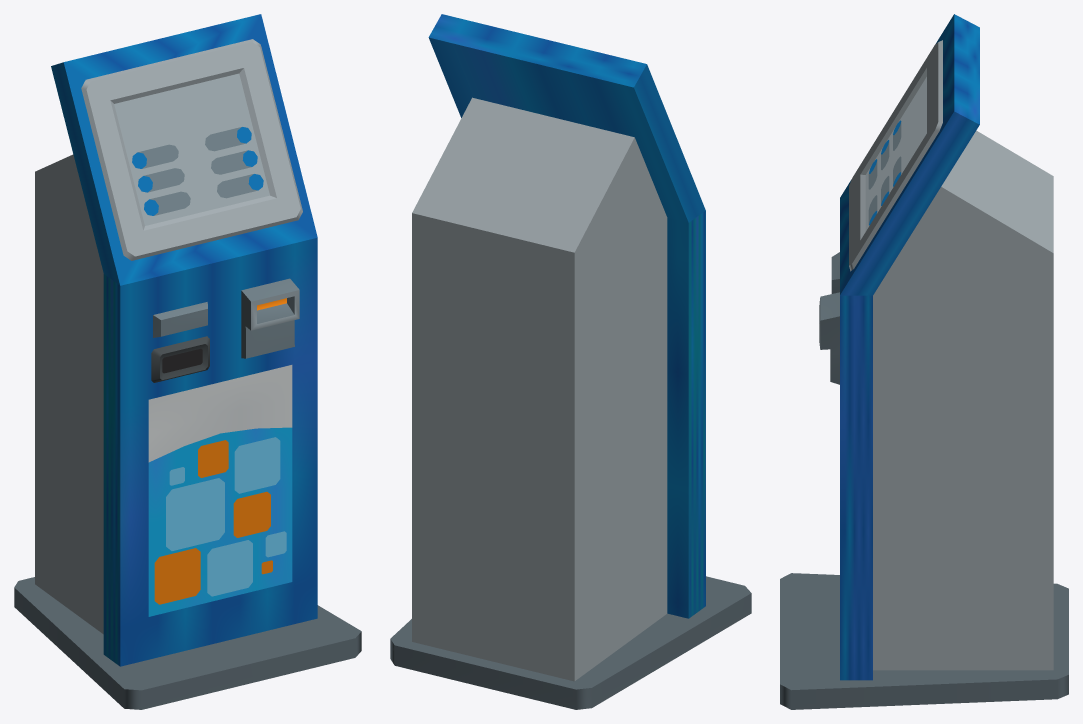
The model's file is atm-03.glb.
3 renders of one model, left to right at view 1: azimuth 30°, elevation 25°; view 2: azimuth 150°, elevation 25°; view 3: azimuth 270°, elevation 25°, orthographic. The views are drawn at different scales.
Parts seen in each view (by area): view 1: ATM_03; view 2: ATM_03; view 3: ATM_03.
Boxes of the visible parts, <box> form: ATM_03: <box>14,14,361,709</box>; ATM_03: <box>390,14,751,709</box>; ATM_03: <box>780,14,1068,709</box>.
Size of the model in its own units: 0.6677 by 1.57 by 0.6962.
Materials: 2 (2 with a texture image).
